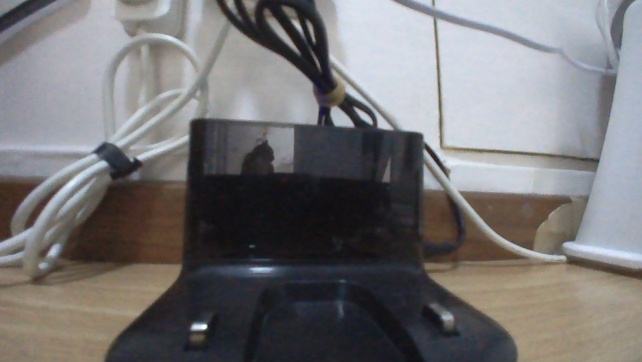charger: (96, 112, 522, 361)
wire: (216, 0, 469, 261), (0, 0, 230, 285), (327, 50, 567, 266), (391, 0, 624, 75)
